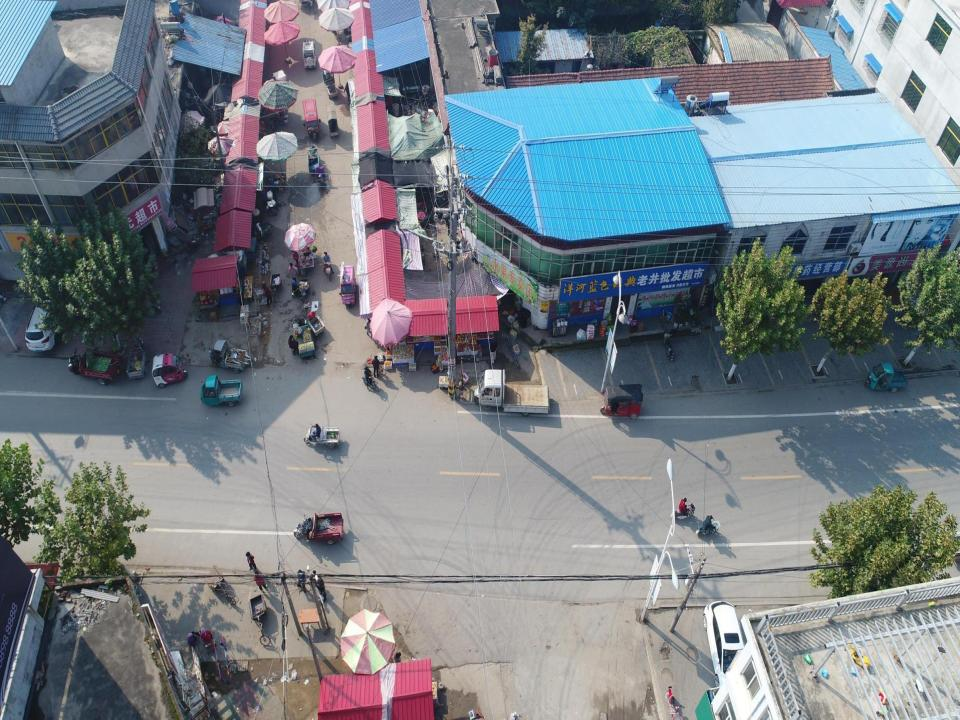car: (702, 597, 748, 694), (24, 286, 64, 352)
